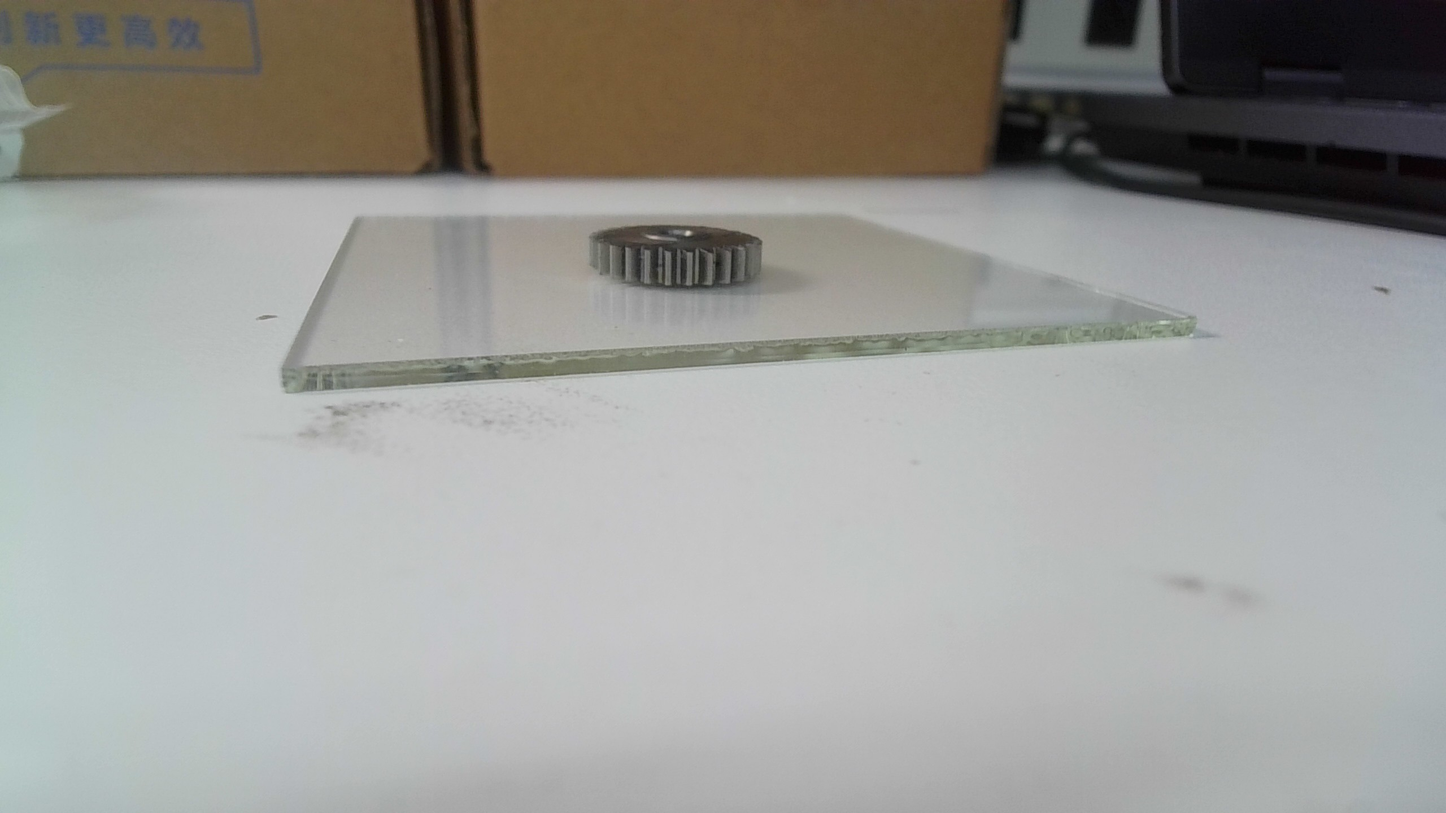gear: (583, 221, 765, 289)
